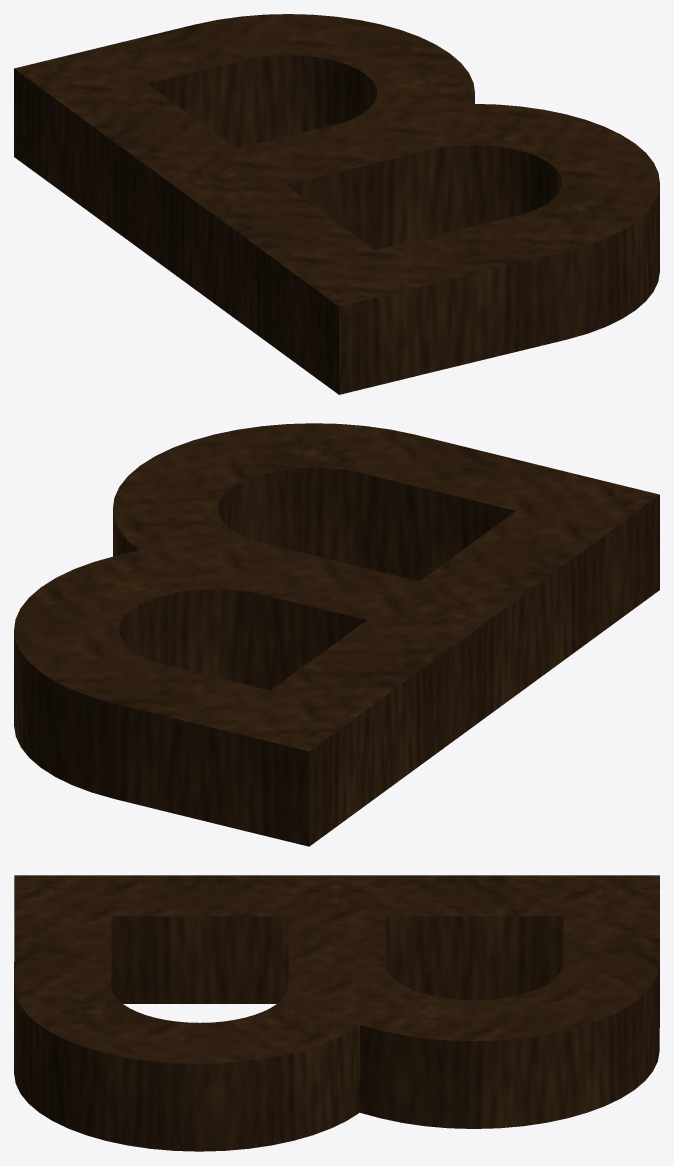
The model's file is LetterB.obj.
3 views of the same model, one above another, from view 1: azimuth 30°, elevation 25°; view 2: azimuth 150°, elevation 25°; view 3: azimuth 270°, elevation 25° (orthographic). The views are drawn at different scales.
Parts seen in each view (by area): view 1: LetterB; view 2: LetterB; view 3: LetterB.
Part boxes in pixels (x1,y1,x2,y2): LetterB: [14, 14, 659, 394]; LetterB: [14, 423, 659, 846]; LetterB: [14, 875, 659, 1151].
Bounding box in the file's own units: 0.6903 × 0.15 × 1.
